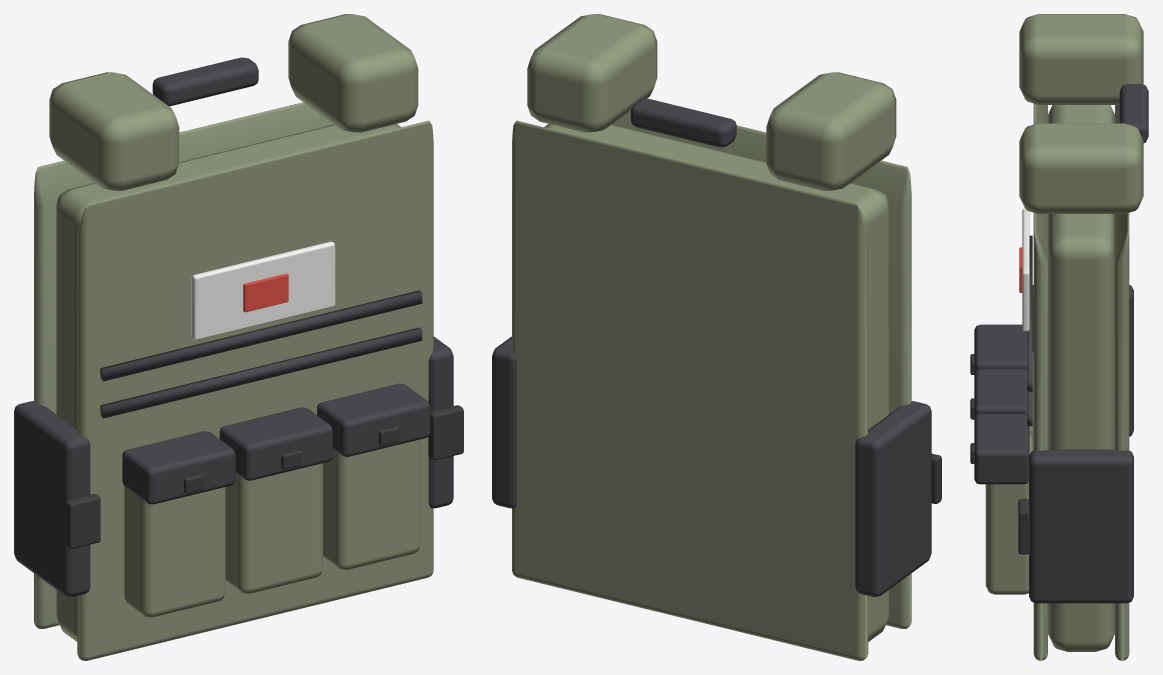
Rendered from vest.glb.
3 renders of one model, left to right at view 1: azimuth 30°, elevation 25°; view 2: azimuth 150°, elevation 25°; view 3: azimuth 270°, elevation 25°, orthographic. The views are drawn at different scales.
Parts seen in each view (by area): view 1: v_front, v_shoulder1, v_shoulder-1, v_side-1, v_pouch0, v_back, v_pouch1, v_pouch2, v_core, v_patch, v_flap0, v_flap1 (+8 smaller); view 2: v_back, v_side-1, v_shoulder-1, v_shoulder1, v_core, v_front, v_side1, v_handle; view 3: v_core, v_side1, v_shoulder1, v_shoulder-1, v_front, v_back, v_pouch2, v_flap2, v_flap0, v_flap1, v_handle, v_patch (+3 smaller).
Part boxes in pixels (bbox=[...]): v_front: bbox=[77, 120, 433, 660]; v_shoulder1: bbox=[288, 14, 418, 132]; v_shoulder-1: bbox=[49, 72, 179, 190]; v_side-1: bbox=[14, 401, 90, 596]; v_pouch0: bbox=[124, 486, 225, 617]; v_back: bbox=[34, 102, 333, 628]; v_pouch1: bbox=[225, 463, 322, 593]; v_pouch2: bbox=[323, 439, 420, 569]; v_core: bbox=[56, 124, 401, 641]; v_patch: bbox=[191, 241, 335, 340]; v_flap0: bbox=[122, 431, 235, 504]; v_flap1: bbox=[219, 407, 332, 480]; v_back: bbox=[512, 120, 868, 660]; v_side-1: bbox=[855, 401, 931, 596]; v_shoulder-1: bbox=[766, 72, 896, 190]; v_shoulder1: bbox=[527, 14, 657, 132]; v_core: bbox=[544, 124, 889, 641]; v_front: bbox=[612, 110, 911, 628]; v_side1: bbox=[492, 336, 516, 508]; v_handle: bbox=[630, 98, 736, 147]; v_core: bbox=[1048, 105, 1114, 651]; v_side1: bbox=[1029, 449, 1133, 603]; v_shoulder1: bbox=[1019, 123, 1143, 213]; v_shoulder-1: bbox=[1019, 14, 1143, 104]; v_front: bbox=[1033, 103, 1047, 660]; v_back: bbox=[1115, 105, 1129, 660]; v_pouch2: bbox=[985, 436, 1033, 594]; v_flap2: bbox=[974, 413, 1029, 484]; v_flap0: bbox=[974, 324, 1026, 373]; v_flap1: bbox=[974, 369, 1026, 418]; v_handle: bbox=[1119, 84, 1148, 142]; v_patch: bbox=[1022, 208, 1029, 331].
Bounding box in the file's own units: 0.446 × 0.58 × 0.186.
